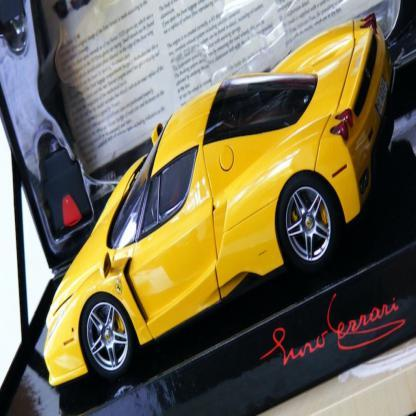car: (44, 11, 397, 406)
